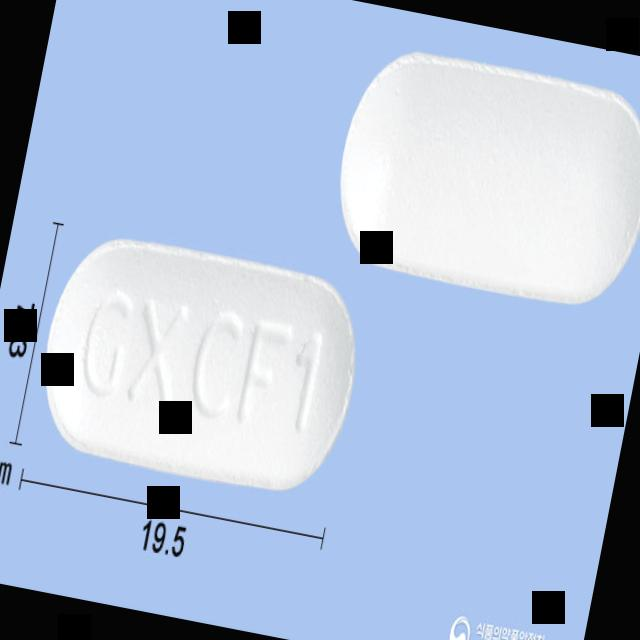Valtrex Tab: (28, 222, 372, 502)
